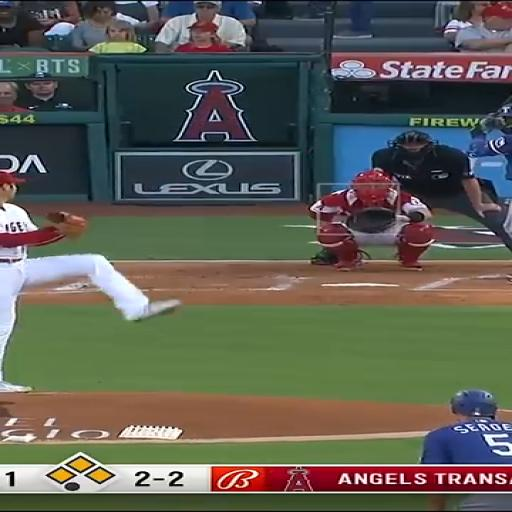bat: (494, 95, 511, 113)
